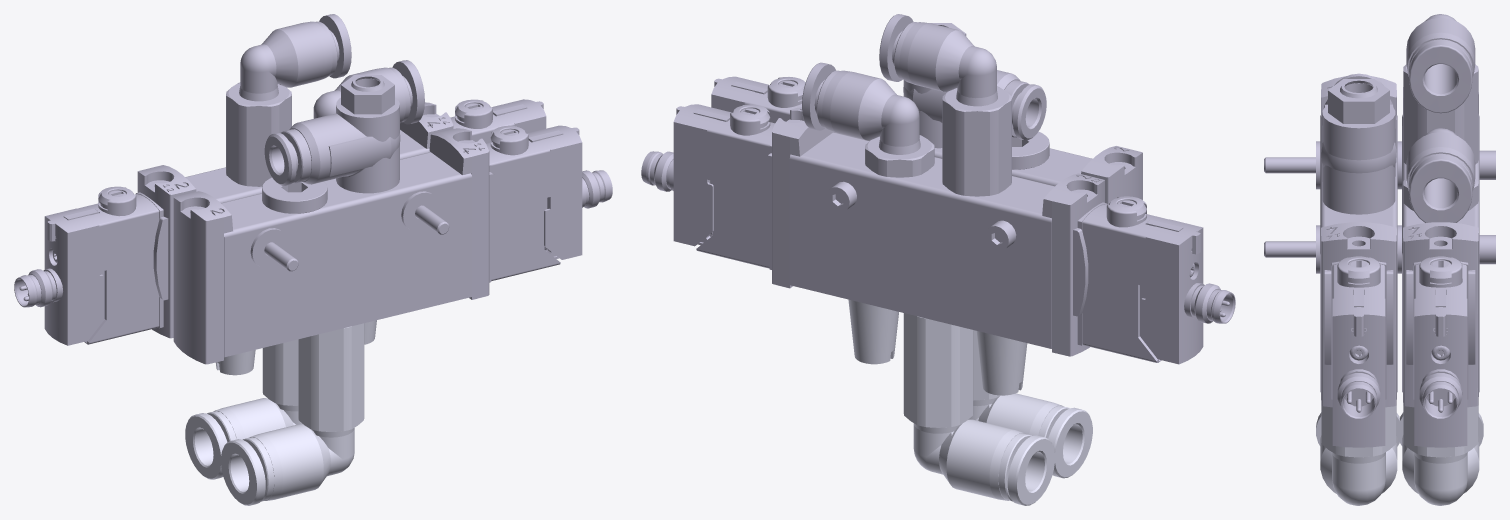
File: Fraese2.glb
3 renders of one model, left to right at view 1: azimuth 30°, elevation 25°; view 2: azimuth 150°, elevation 25°; view 3: azimuth 270°, elevation 25°, orthographic. The views are drawn at different scales.
Parts seen in each view (by area): view 1: MechanicalTool.1 (×5), MechanicalTool.3 (×3), MANIFOLD_SOLID_BREP #2903, MechanicalTool.4, MANIFOLD_SOLID_BREP #768; view 2: MechanicalTool.1 (×6), MechanicalTool.3 (×3), MechanicalTool.4, MANIFOLD_SOLID_BREP #2903, MANIFOLD_SOLID_BREP #768; view 3: MechanicalTool.1 (×4), MechanicalTool.3 (×3), MANIFOLD_SOLID_BREP #2903, MechanicalTool.4.
Part boxes in pixels (box(x1,y1,x2,y2)): MechanicalTool.1 (×5): box(14, 99, 612, 375); MechanicalTool.3 (×3): box(185, 14, 364, 505); MANIFOLD_SOLID_BREP #2903: box(264, 75, 400, 193); MechanicalTool.4: box(313, 60, 424, 124); MANIFOLD_SOLID_BREP #768: box(262, 177, 327, 213); MechanicalTool.1 (×6): box(641, 76, 1235, 395); MechanicalTool.3 (×3): box(879, 14, 1092, 505); MechanicalTool.4: box(802, 62, 934, 177); MANIFOLD_SOLID_BREP #2903: box(903, 23, 1046, 148); MANIFOLD_SOLID_BREP #768: box(1012, 131, 1049, 169); MechanicalTool.1 (×4): box(1264, 76, 1495, 447); MechanicalTool.3 (×3): box(1316, 14, 1483, 505); MANIFOLD_SOLID_BREP #2903: box(1321, 73, 1396, 214); MechanicalTool.4: box(1403, 128, 1478, 222).
Size of the model in its own units: 0.1345 by 0.1009 by 0.043.
